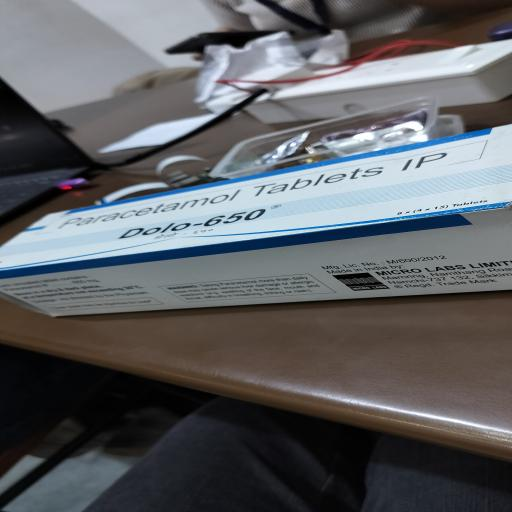medicine: (0, 141, 512, 311)
paracetamol: (54, 150, 460, 229)
